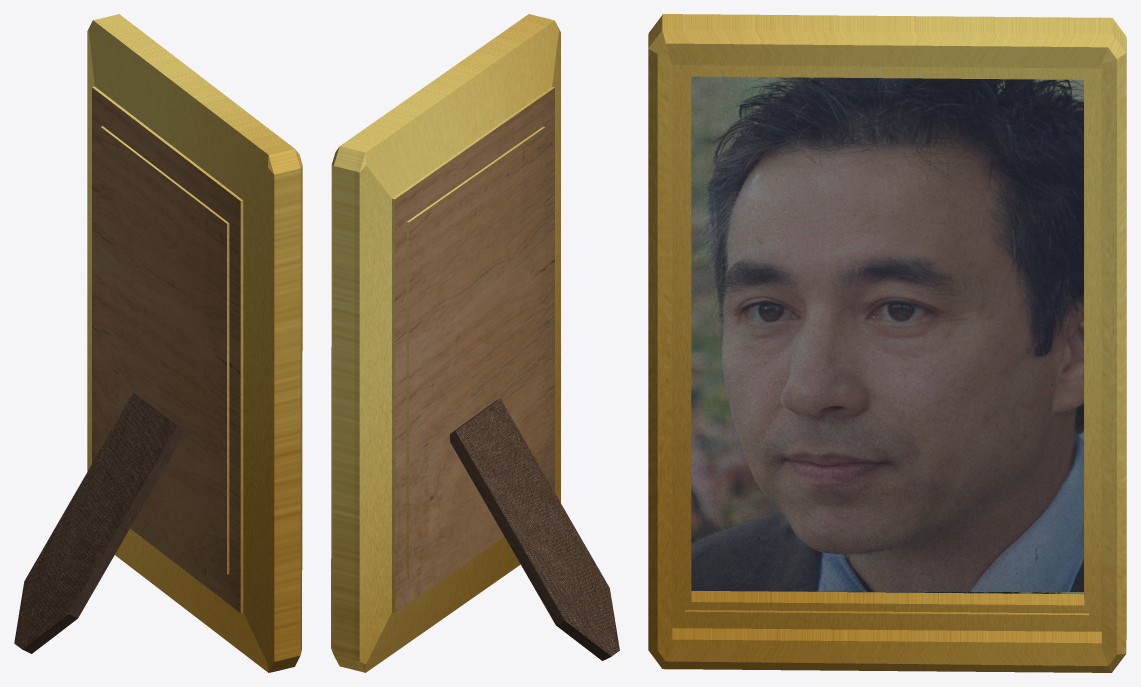
File: FotoMarido.fbx
3 renders of one model, left to right at view 1: azimuth 30°, elevation 25°; view 2: azimuth 150°, elevation 25°; view 3: azimuth 270°, elevation 25°, orthographic. The views are drawn at different scales.
Visible parts, largest first — view 1: Picture, Cube; view 2: Picture, Cube; view 3: Picture.
Boxes of the visible parts, x1,y1,x2,y2 form: Picture: (87,14,302,672); Cube: (14,392,181,653); Picture: (331,14,560,672); Cube: (450,398,619,660); Picture: (648,14,1126,672).
Bounding box in the file's own units: 30.72 × 79.52 × 52.75.
Materials: 4 (4 with a texture image).
